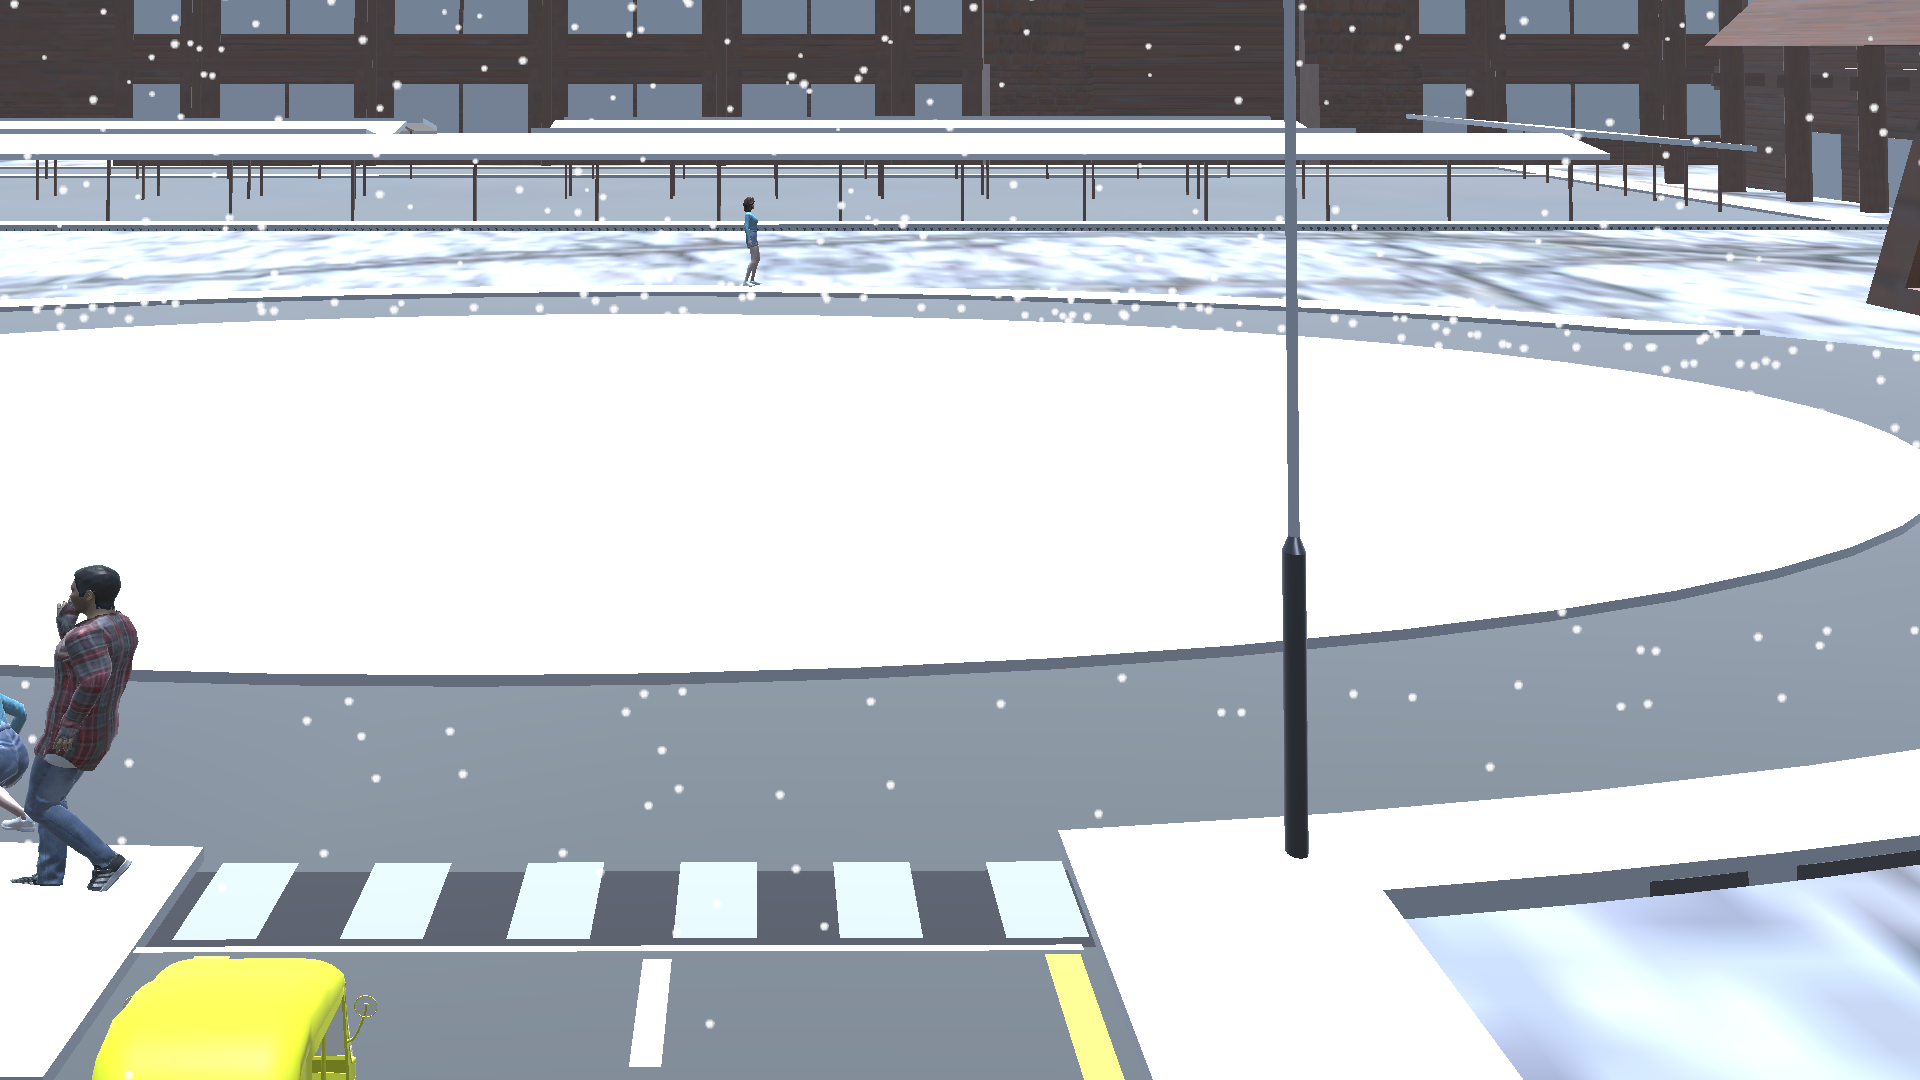pedestrian: (11, 558, 151, 879), (740, 192, 762, 288)
